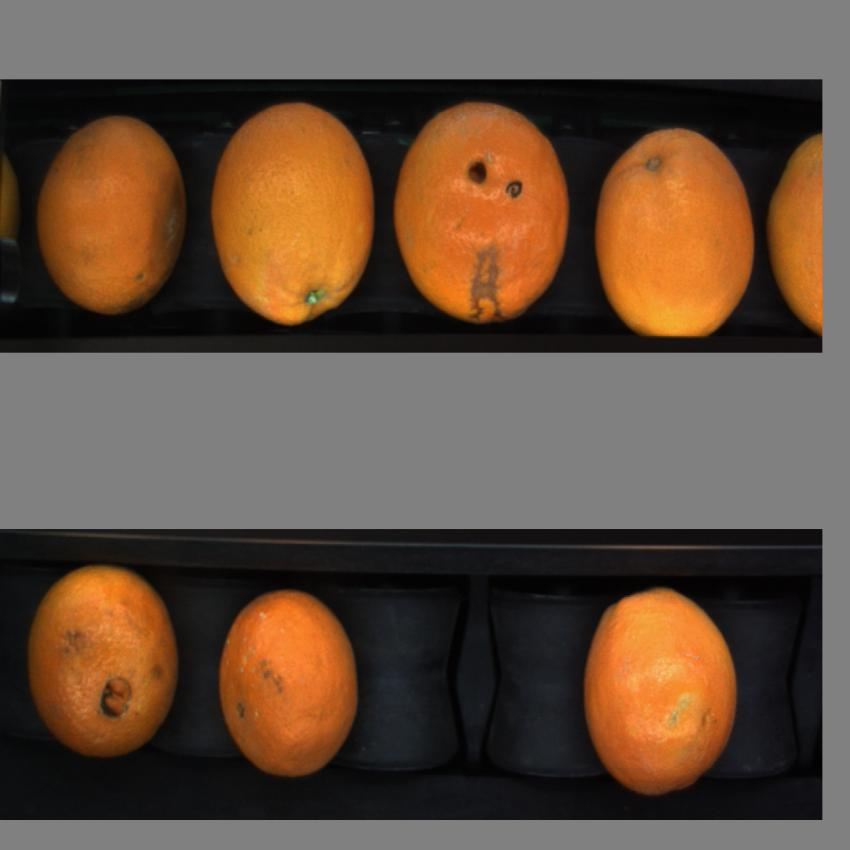Buen estado: (391, 92, 576, 335), (210, 94, 384, 329), (590, 117, 758, 347), (579, 578, 742, 806), (20, 556, 190, 764), (212, 577, 372, 788), (765, 124, 824, 338)
Mal estado: (34, 112, 194, 323)
